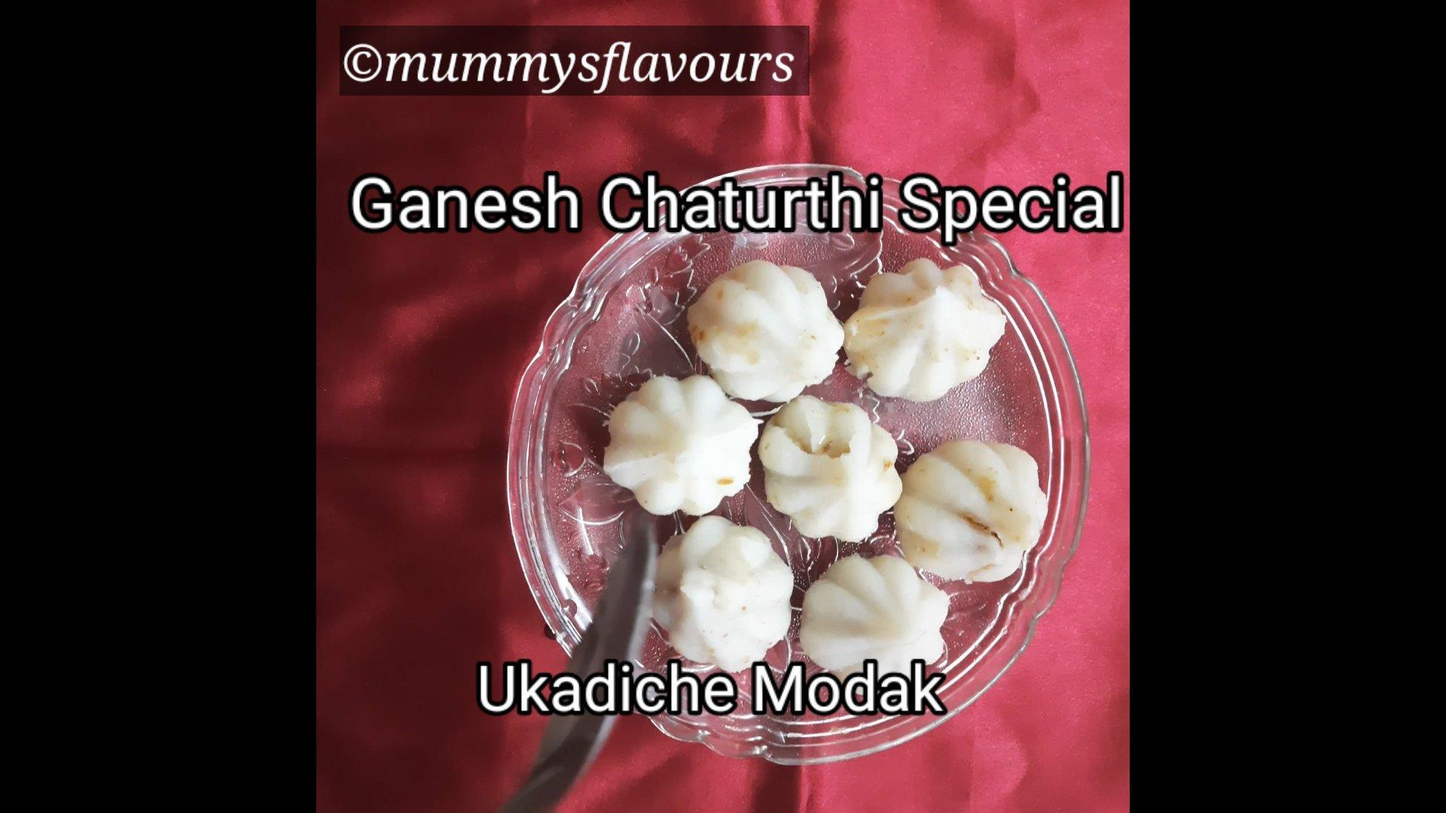modak: (834, 223, 1016, 414), (590, 359, 788, 530), (786, 531, 955, 697), (625, 509, 794, 675), (678, 262, 854, 407), (902, 419, 1048, 591), (752, 377, 896, 546)
